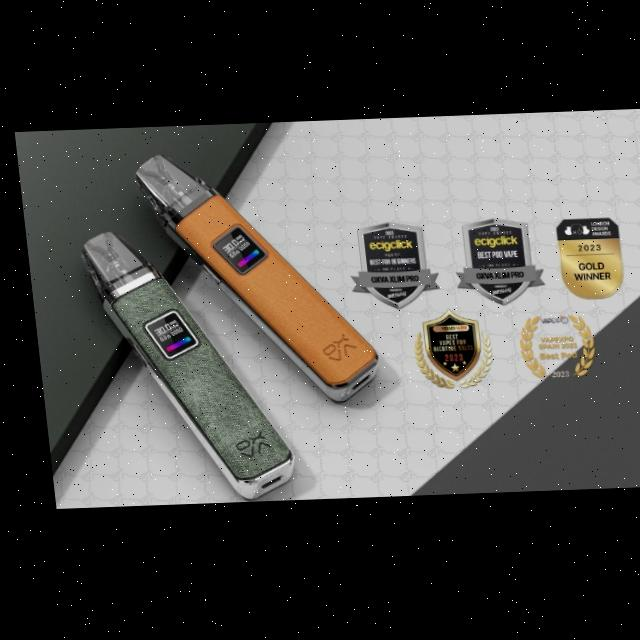vape: (126, 147, 374, 412), (73, 226, 288, 505)
